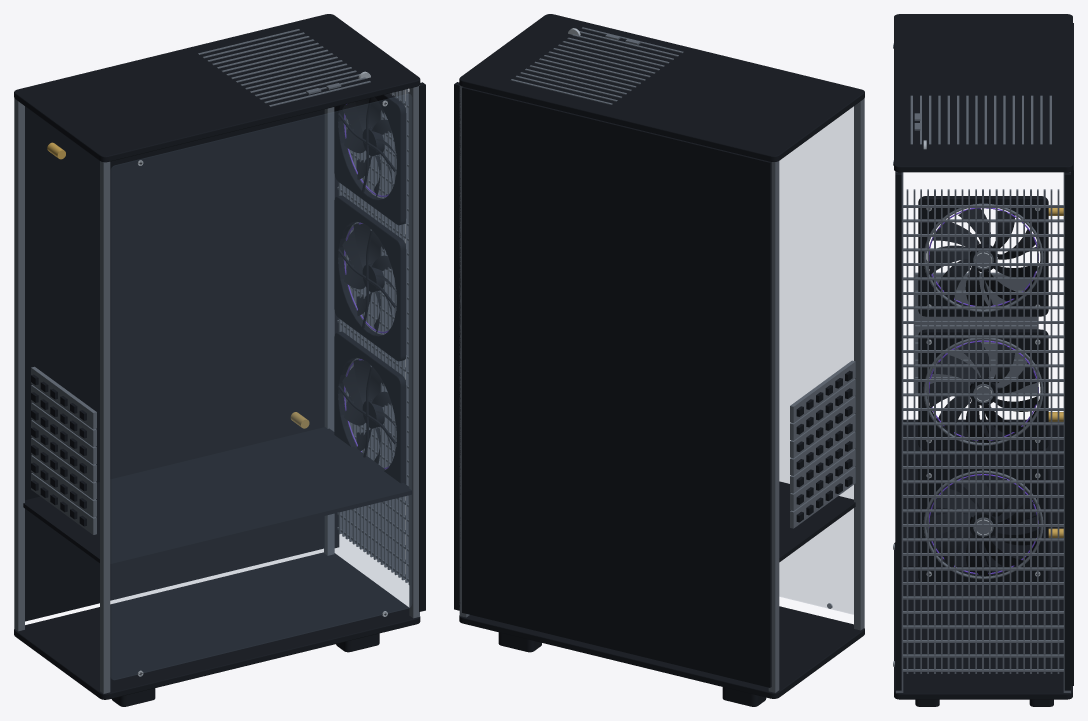
The model's file is nexrig-case.glb.
3 views of the same model, side by side, from view 1: azimuth 30°, elevation 25°; view 2: azimuth 150°, elevation 25°; view 3: azimuth 270°, elevation 25° (orthographic).
Parts seen in each view (by area): view 1: Original generic mid tower, Fan rotor (×3); view 2: Original generic mid tower; view 3: Original generic mid tower, Fan rotor (×3).
Boxes of the visible parts, x1,y1,x2,y2 form: Original generic mid tower: (14, 14, 425, 706); Fan rotor (×3): (342, 97, 396, 463); Original generic mid tower: (454, 14, 864, 706); Original generic mid tower: (893, 14, 1073, 706); Fan rotor (×3): (929, 208, 1038, 576).
Size of the model in its own units: 2.9 by 4.87 by 1.43.
